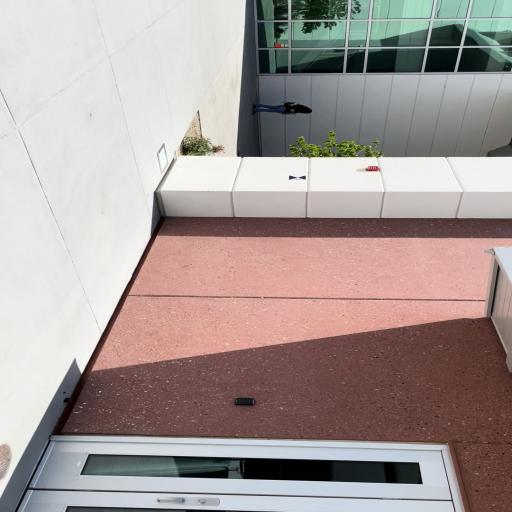target2: (288, 175, 307, 181)
